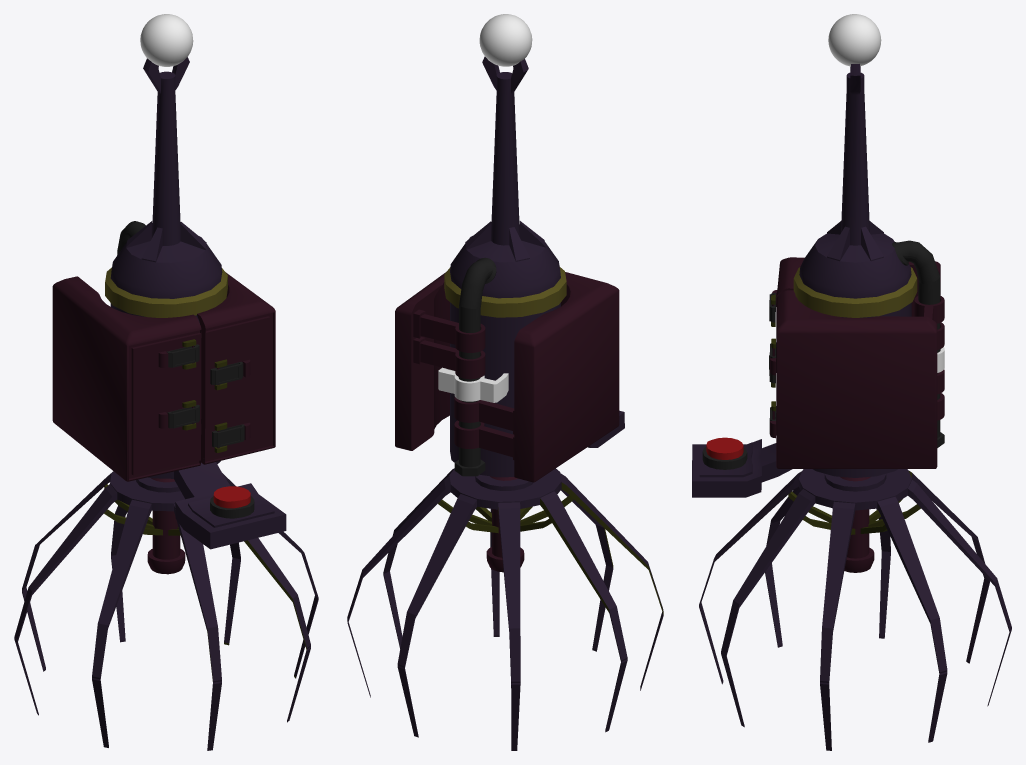
Rendered from Beacon.fbx.
3 views of the same model, side by side, from view 1: azimuth 30°, elevation 25°; view 2: azimuth 150°, elevation 25°; view 3: azimuth 270°, elevation 25° (orthographic).
Parts seen in each view (by area): view 1: MainBody, RightDoor, LeftDoor, LightSphere, ButtonUpper, Cube.007, Cube.008, Cube.010, Cube.012, ButtonBase; view 2: MainBody, RightDoor, LeftDoor, BackPipe, LightSphere, BackSupport; view 3: MainBody, LeftDoor, LightSphere, BackPipe, RightDoor, ButtonUpper, ButtonBase.
Part boxes in pixels (x1,y1,x2,y2): MainBody: (14, 57, 318, 750); RightDoor: (52, 276, 201, 481); LeftDoor: (197, 272, 275, 464); LightSphere: (140, 14, 193, 66); ButtonUpper: (213, 486, 250, 508); Cube.007: (210, 361, 243, 385); Cube.008: (212, 424, 244, 447); Cube.010: (167, 404, 199, 428); Cube.012: (167, 344, 199, 367); ButtonBase: (210, 496, 254, 518); MainBody: (347, 56, 663, 750); RightDoor: (454, 272, 619, 482); LeftDoor: (395, 272, 485, 450); BackPipe: (454, 257, 496, 476); LightSphere: (479, 14, 532, 66); BackSupport: (438, 367, 508, 402); MainBody: (692, 64, 1011, 750); LeftDoor: (770, 290, 944, 468); LightSphere: (828, 14, 881, 66); BackPipe: (892, 240, 944, 447); RightDoor: (771, 257, 944, 420); ButtonUpper: (706, 437, 743, 459); ButtonBase: (702, 447, 747, 469).
Size of the model in its own units: 36.42 by 87.14 by 37.23.
